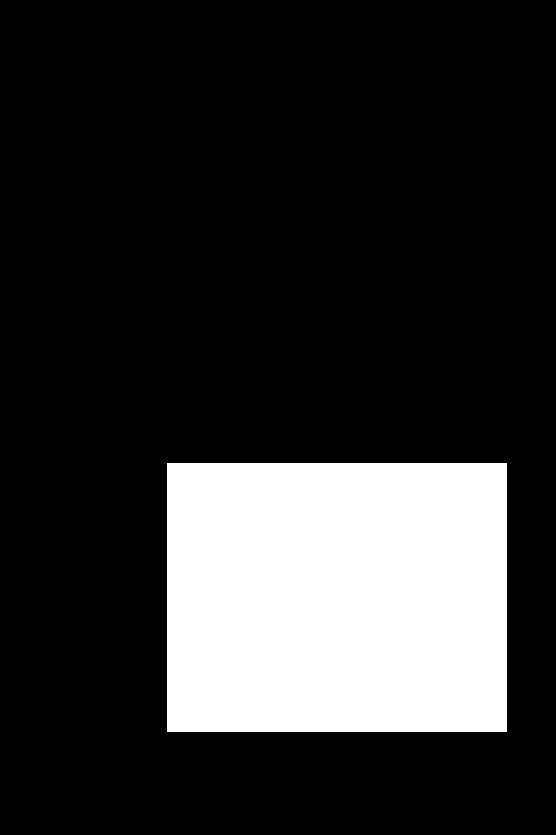table: (167, 463, 506, 731)
